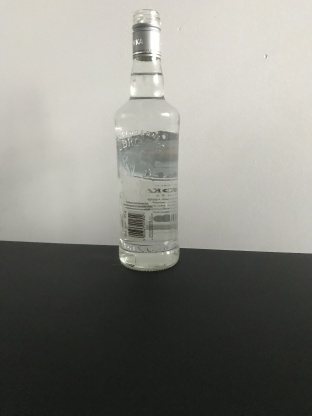nakretka: (130, 8, 162, 61)
